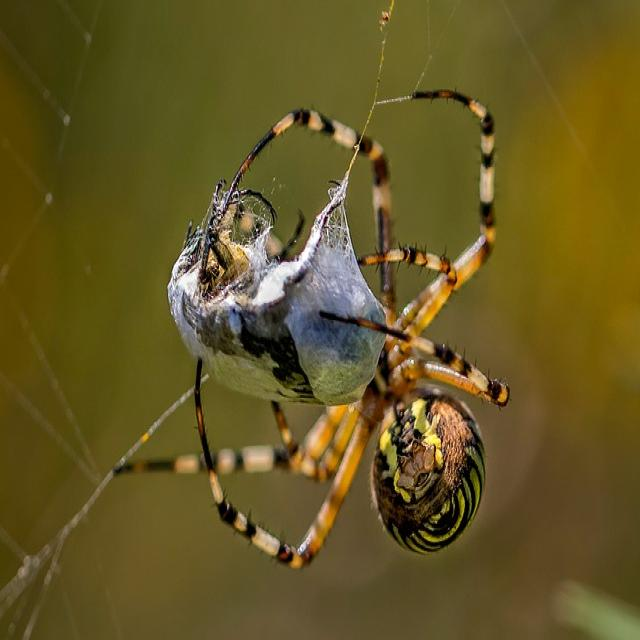spyder: (129, 90, 509, 565)
